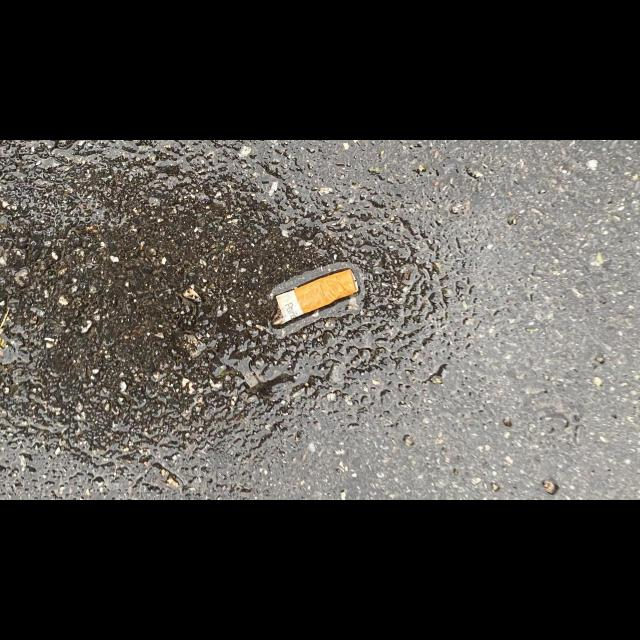cigarette: (271, 267, 360, 326)
